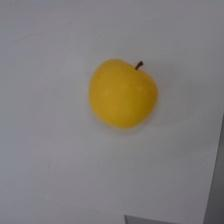yellow: (88, 56, 158, 129)
